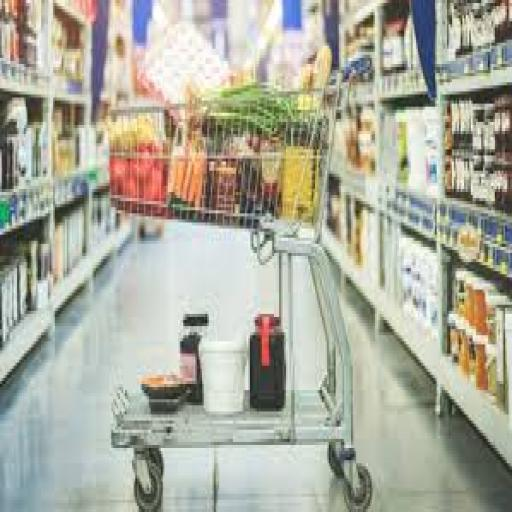shopping_cart: (106, 55, 372, 512)
